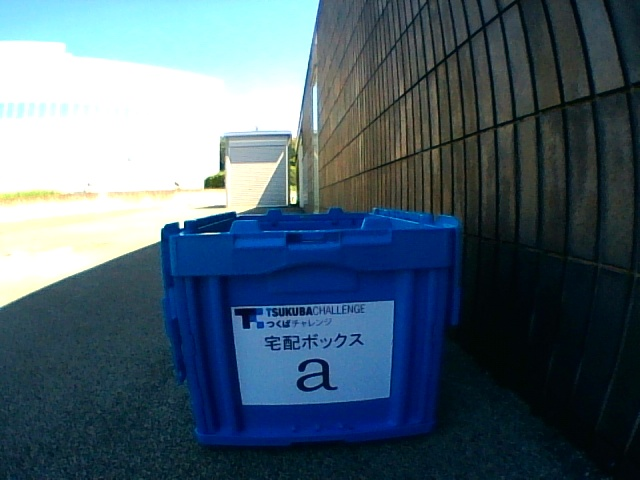blue_box: (161, 206, 459, 447)
tag_a: (244, 307, 385, 396)
